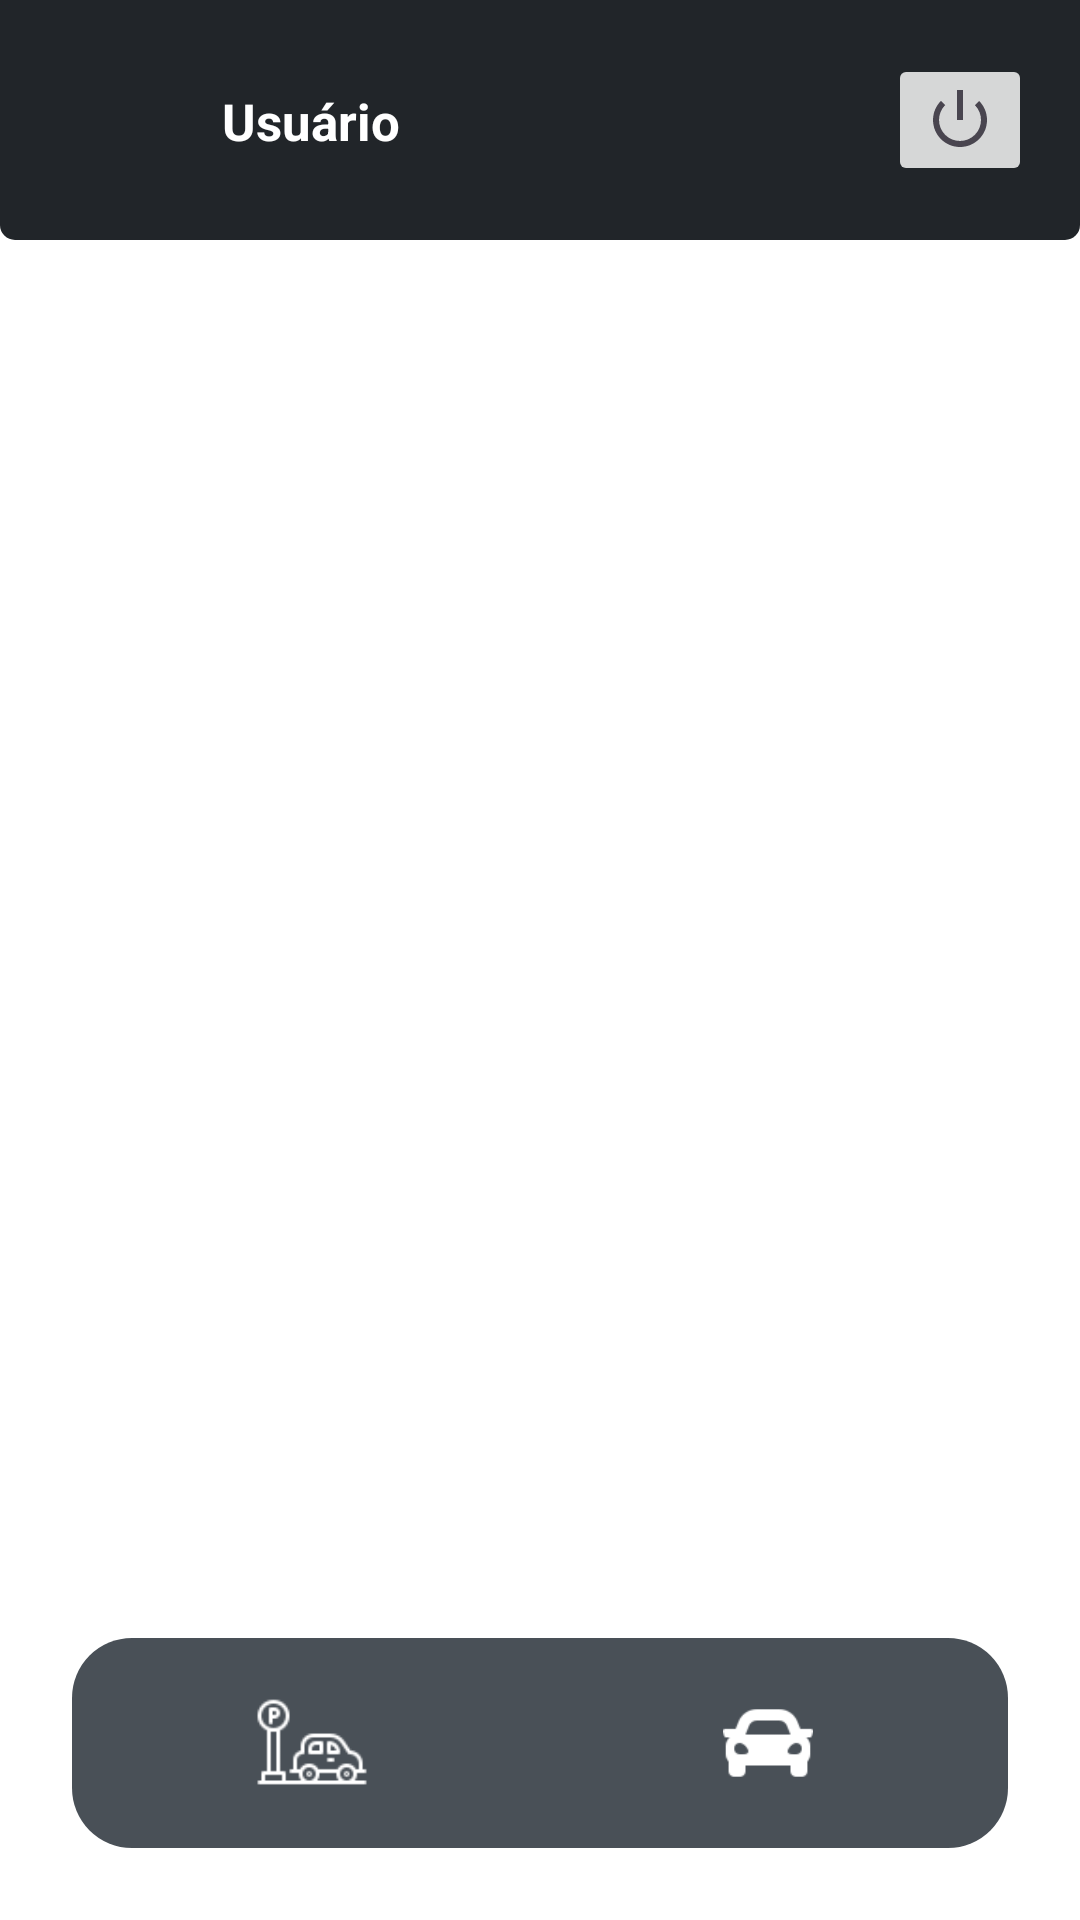

Where icons sit on this 1080w x 1920h app screen, as (x1, y1, x2, y2):
lock power off: (900, 72, 1020, 168)
parking: (257, 1699, 367, 1785)
